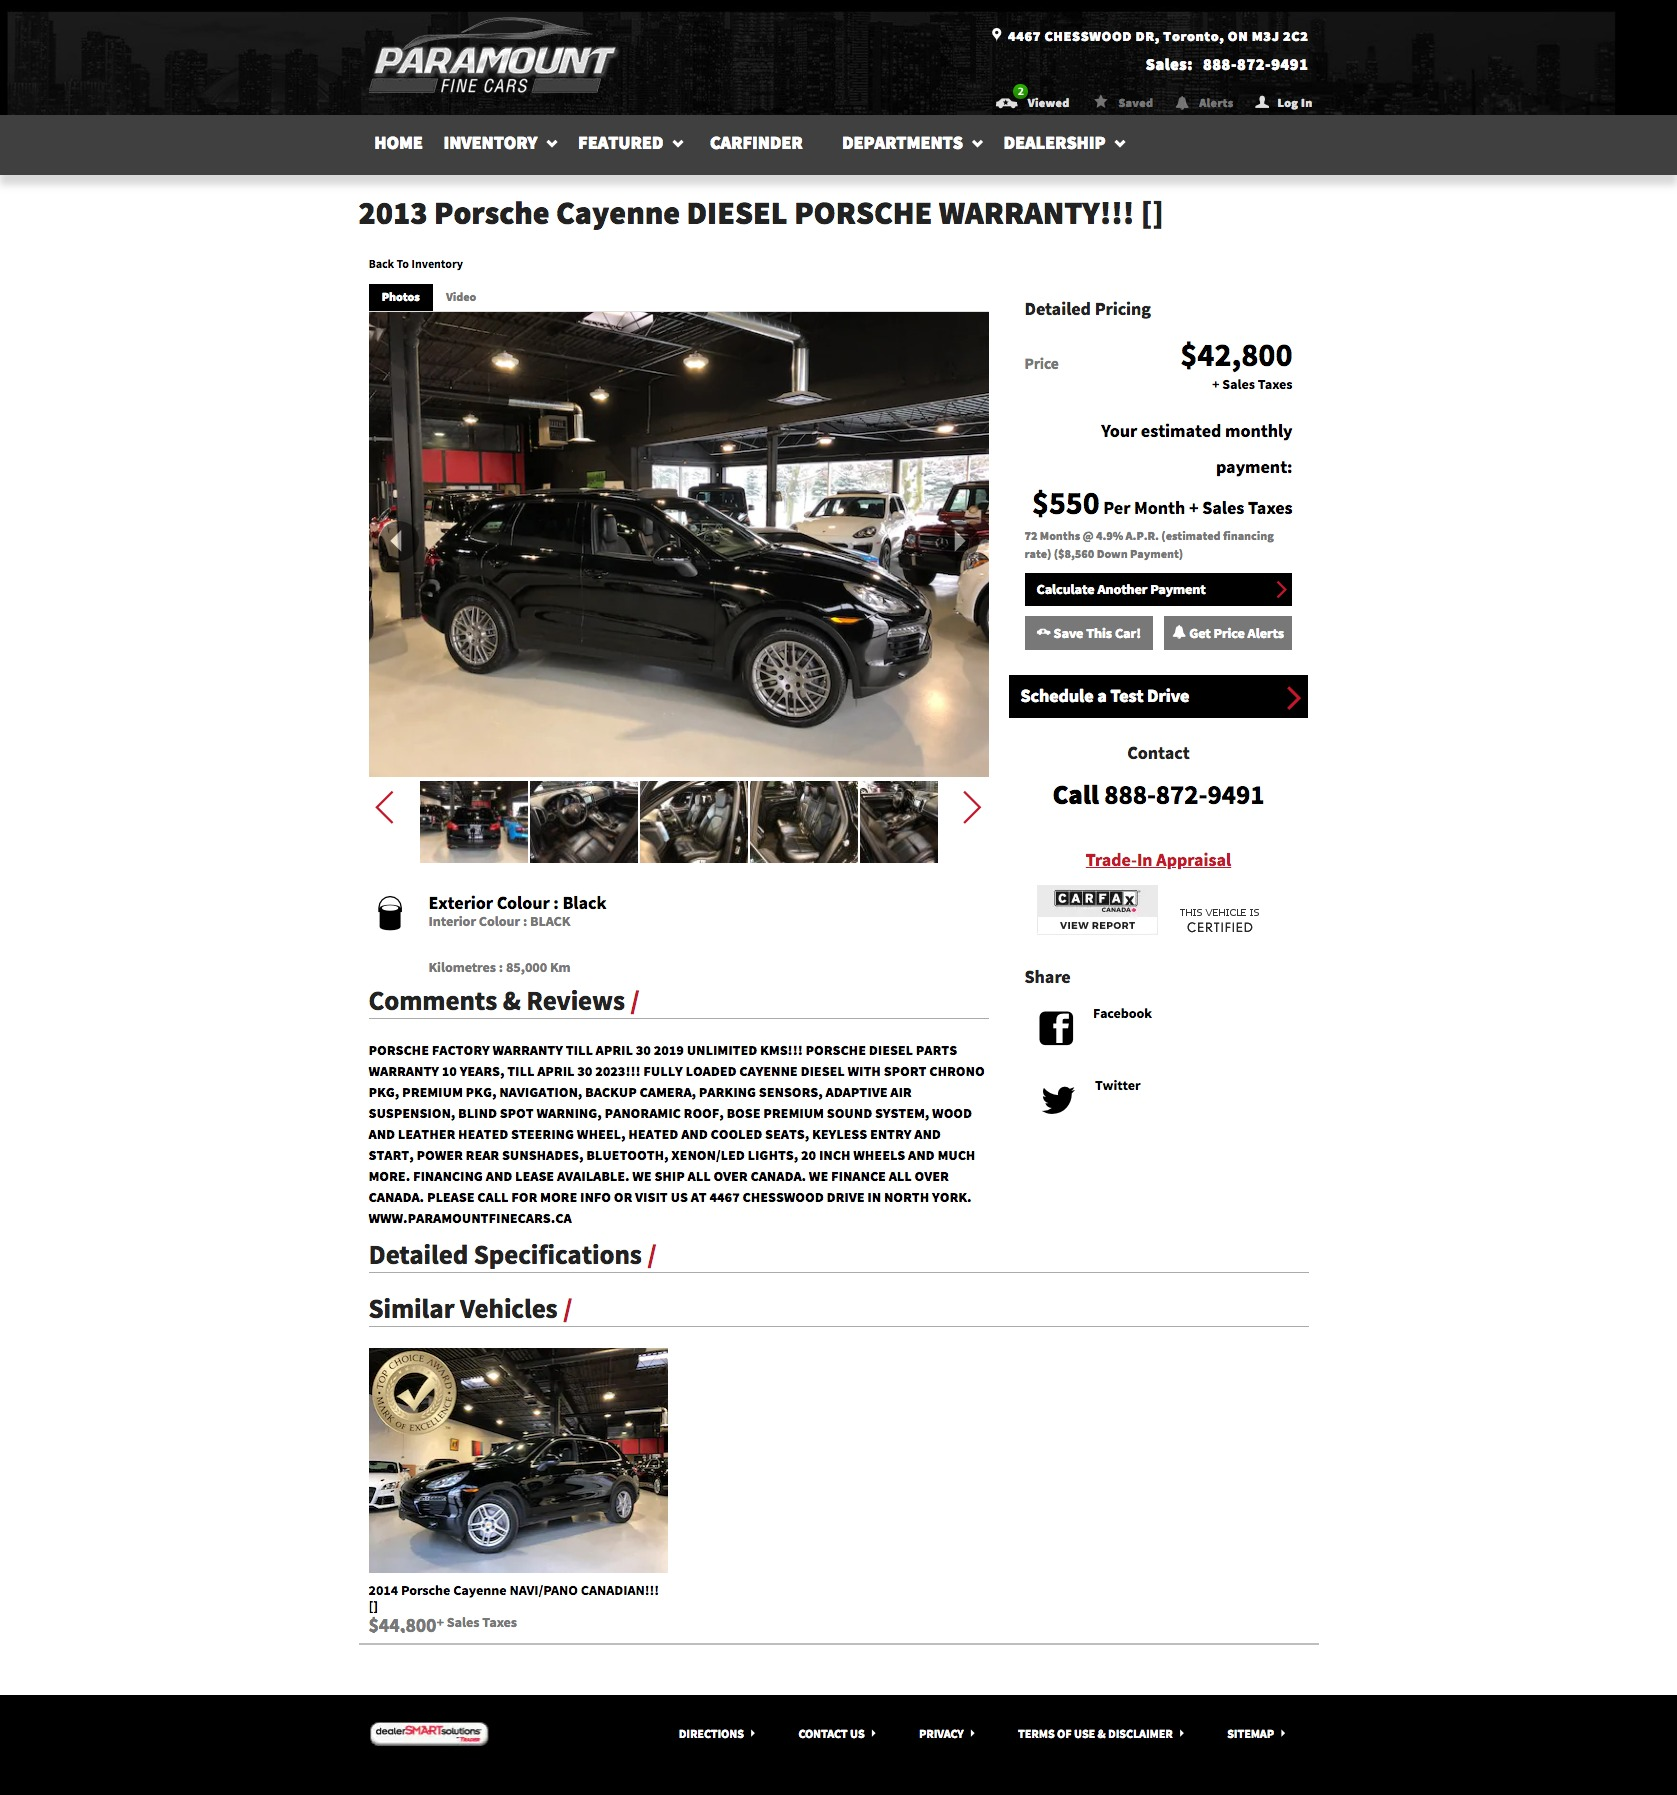car: (963, 790, 984, 827)
